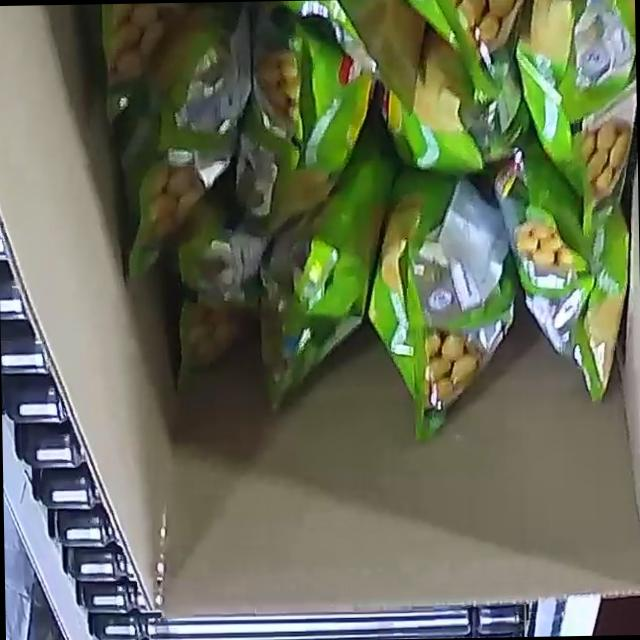yogurt: (77, 0, 640, 448)
